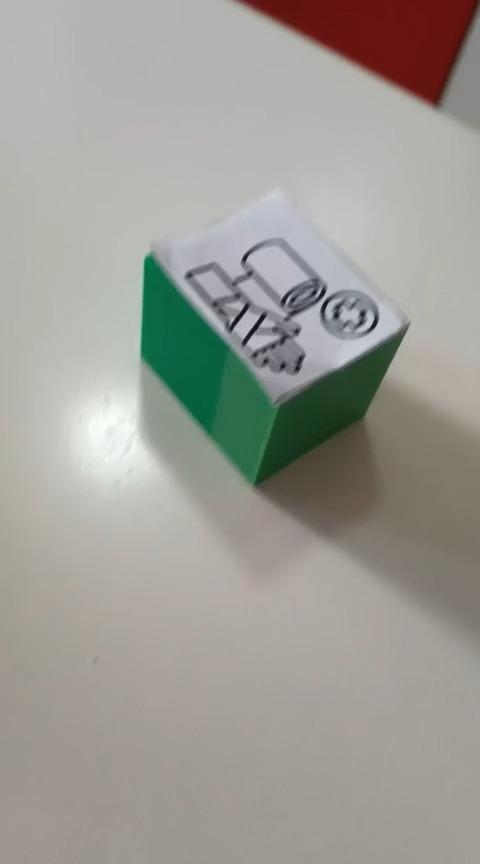Bandages: (139, 186, 411, 488)
